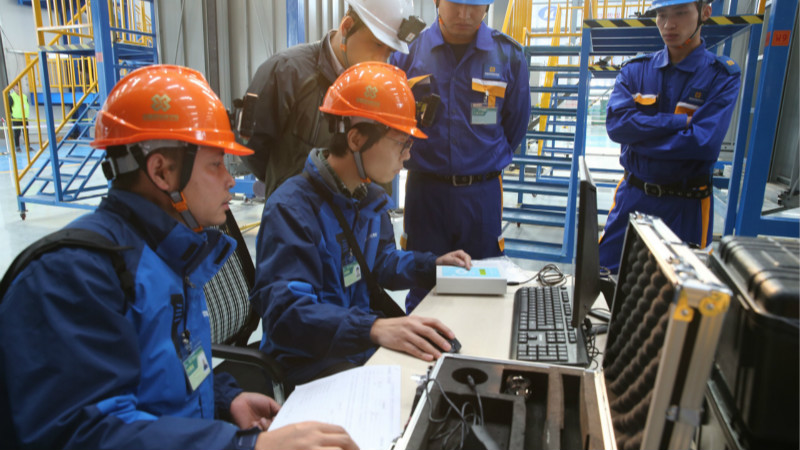safetyhat: (17, 37, 258, 440), (277, 55, 464, 352)
